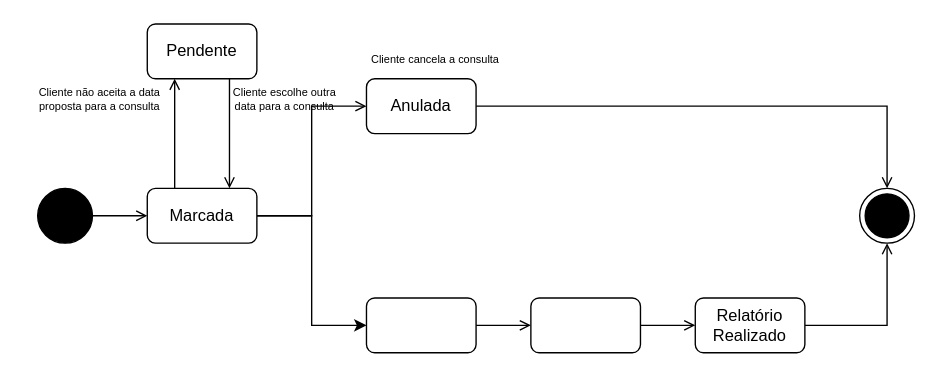
Image size: 938x377. Some labels were removed from this diagram. Each missing label, with the centre of its shape:
"Realizada" goes at point (420, 325).
"Relatório Pendente" goes at point (585, 325).
